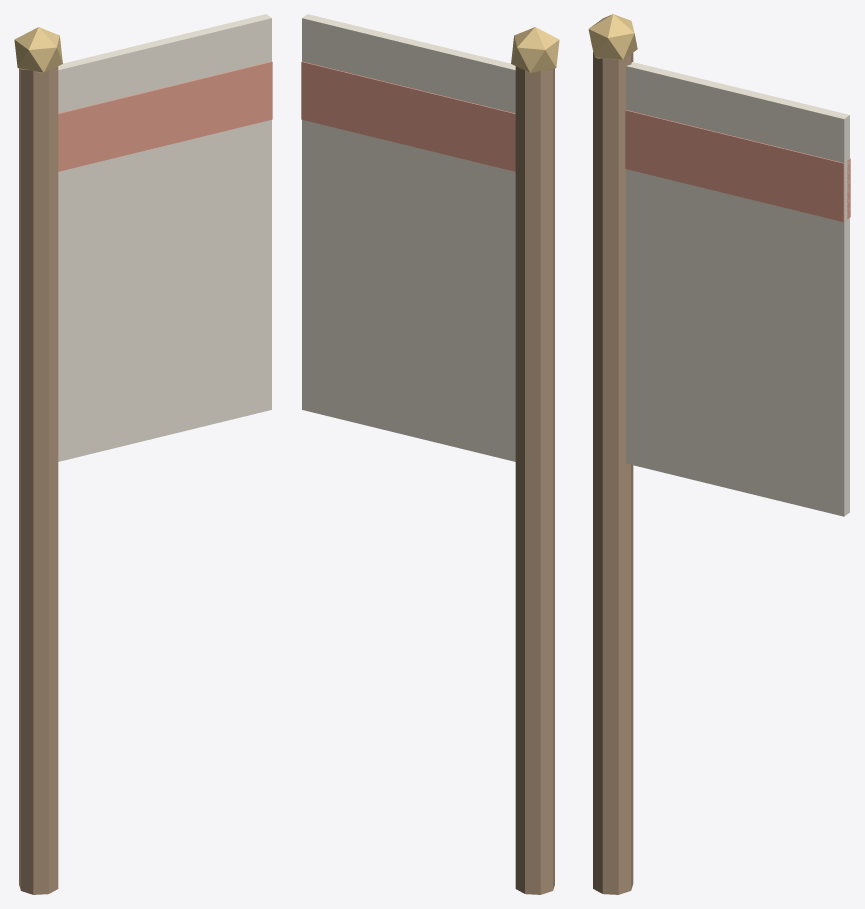
The model's file is banner.glb.
3 views of the same model, side by side, from view 1: azimuth 30°, elevation 25°; view 2: azimuth 150°, elevation 25°; view 3: azimuth 330°, elevation 25° (orthographic).
Visible parts, largest first — view 1: banner; view 2: banner; view 3: banner.
Boxes of the visible parts, x1,y1,x2,y2 form: banner: (14, 14, 272, 894); banner: (301, 14, 559, 894); banner: (588, 14, 850, 894).
Bounding box in the file's own units: 1.28 × 4.17 × 0.2042.
